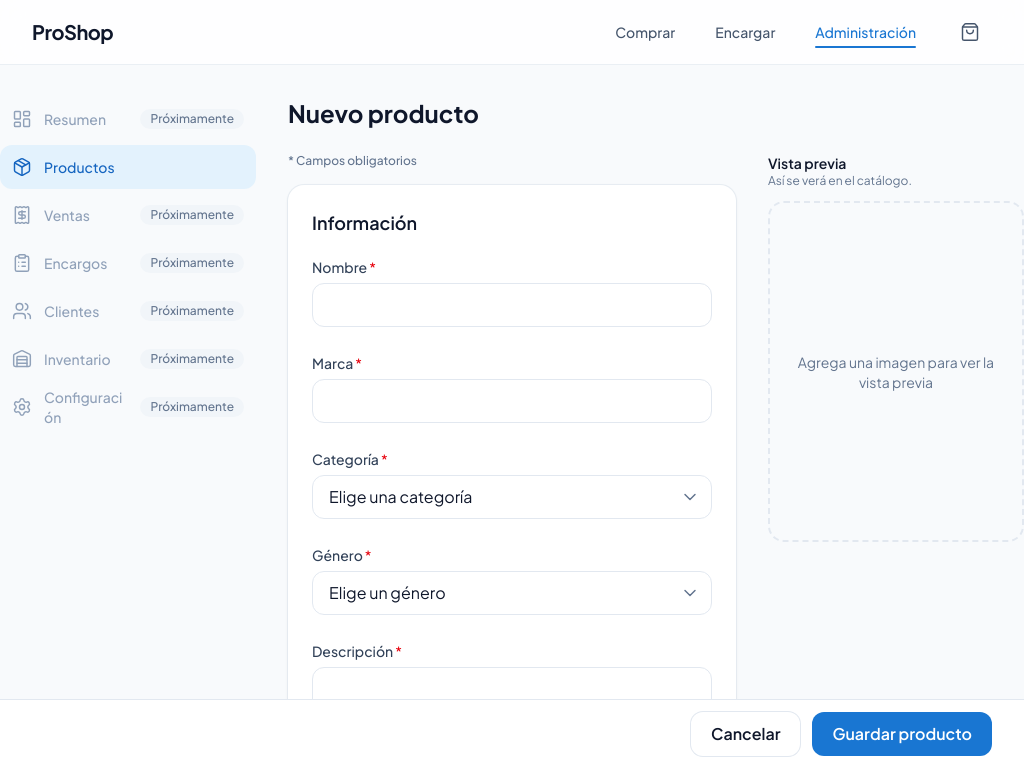
Crear y editar › los errores de validación aparecen bajo cada campo y el foco va al primero
Note: Al salir de un campo se valida ese campo.
Type "Q" into the field labelled "Marca".
click(512, 401); type("Q")  # box [312,379,712,423]
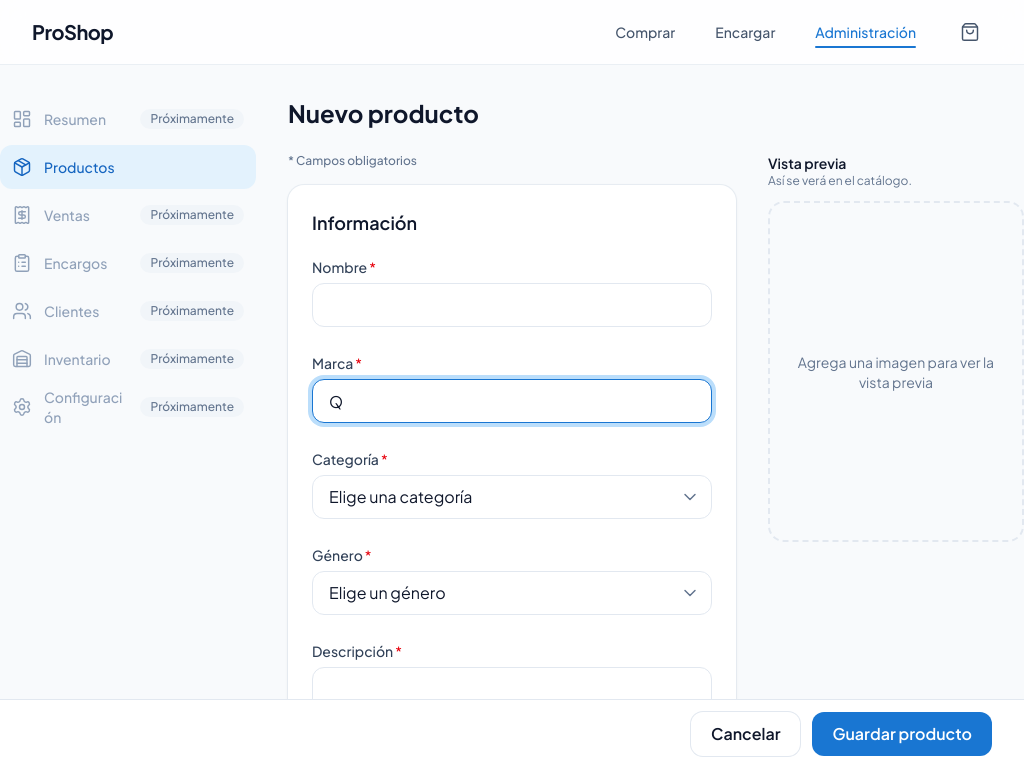
Press Tab
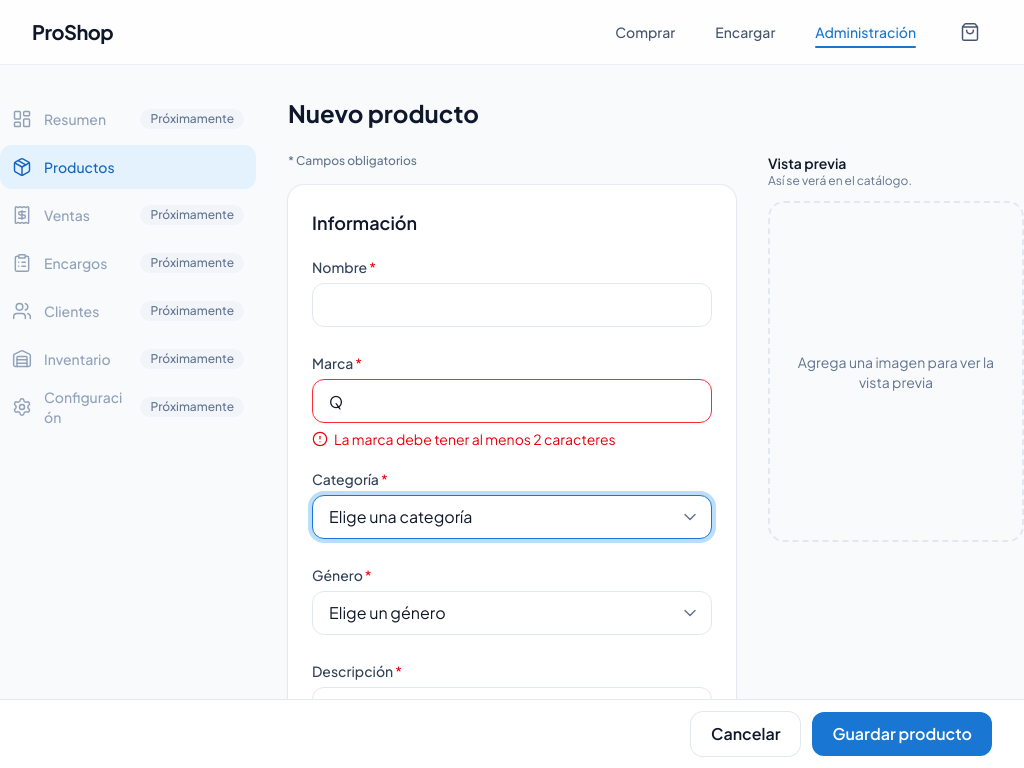
Click the button "Guardar producto".
click(902, 734)  # box [812,712,992,756]
(page scrolled)
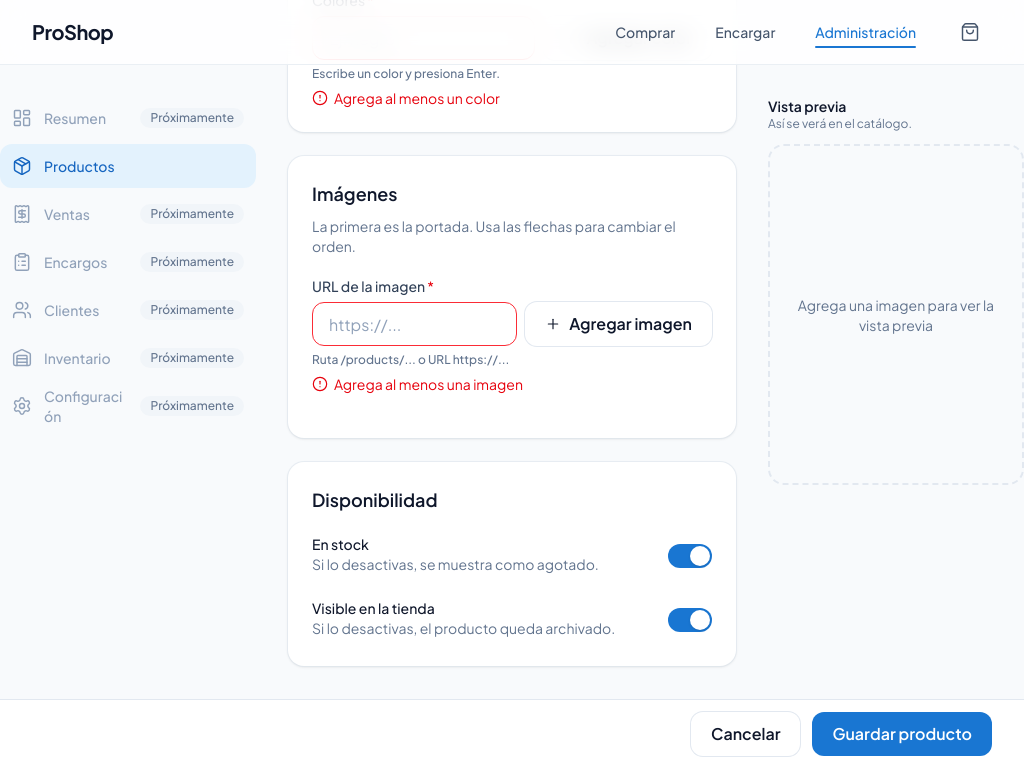
Expected: the text "Agrega al menos un color" is shown, [312,89,500,107]
Expected: the text "Agrega al menos una imagen" is shown, [312,375,523,393]
